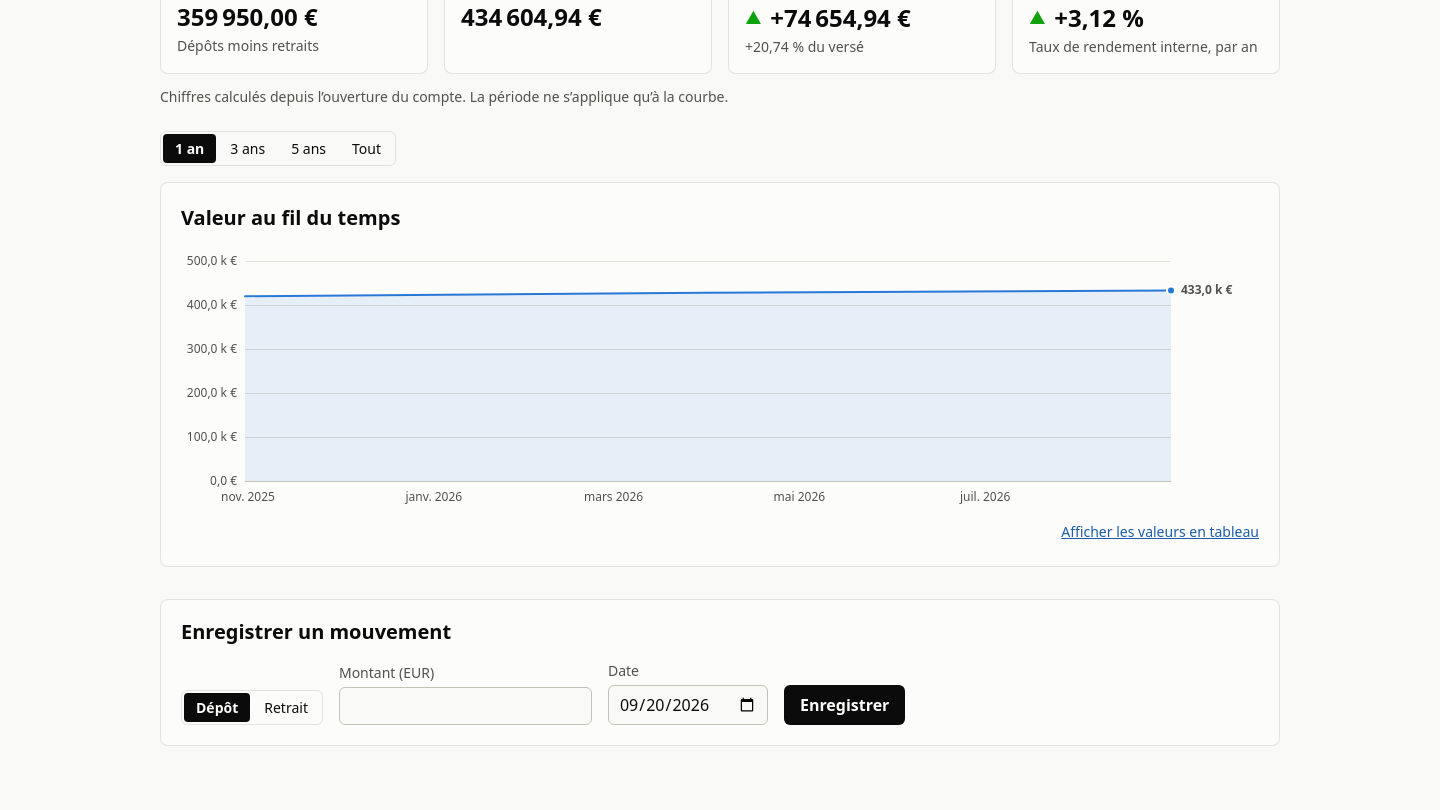
it: Account page › shows the rule that refused a movement, in the server's own words
(page scrolled)
In the field labelled "Montant (EUR)": point(465, 706) [339,686,592,724], type "5000"
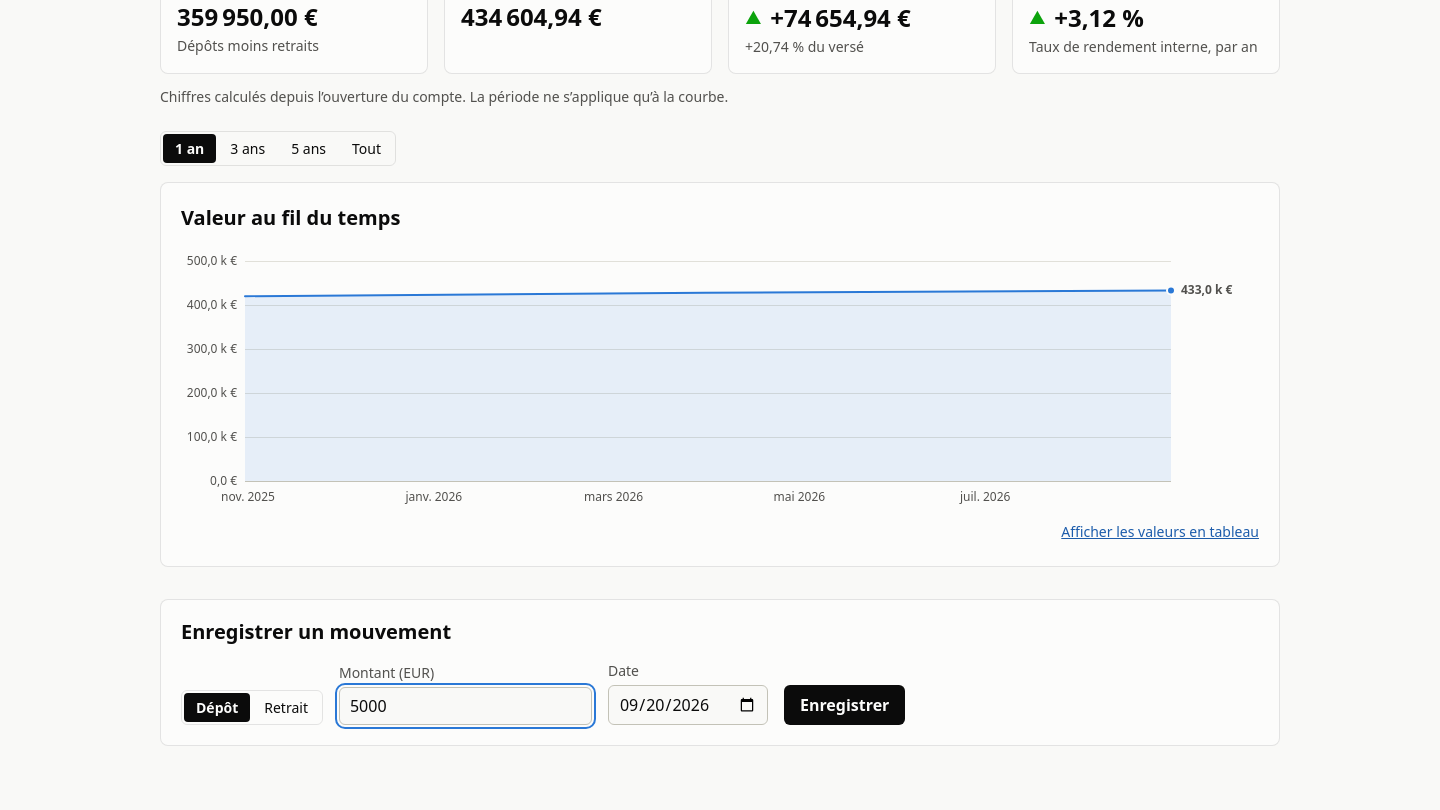
Click the button "Enregistrer": point(845, 704) [784,684,905,724]
(page scrolled)
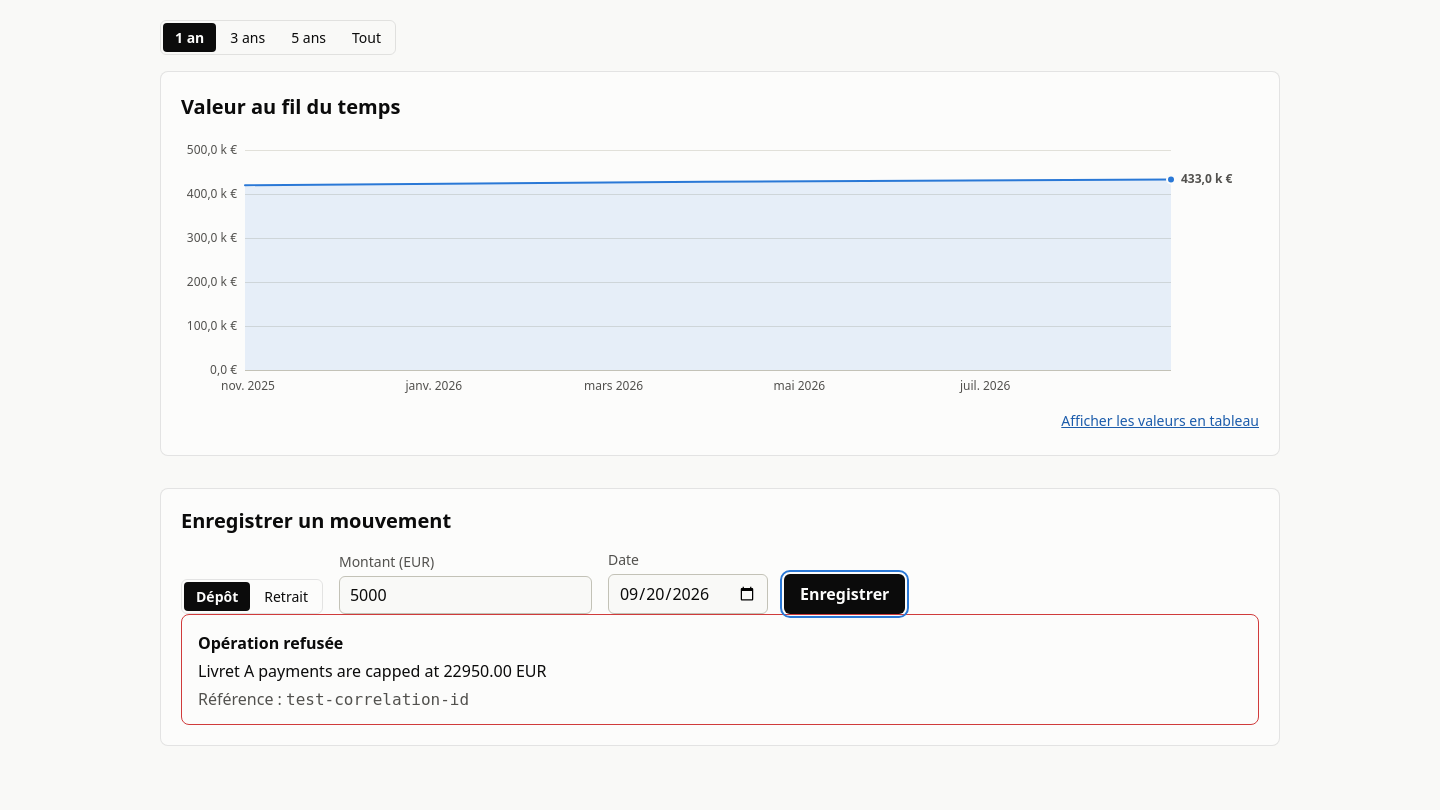
Result: the message shows "Opération refusée" at [198,632,343,654]
Result: the message shows "Livret A payments are capped at 22950.00 EUR" at [198,660,546,682]
